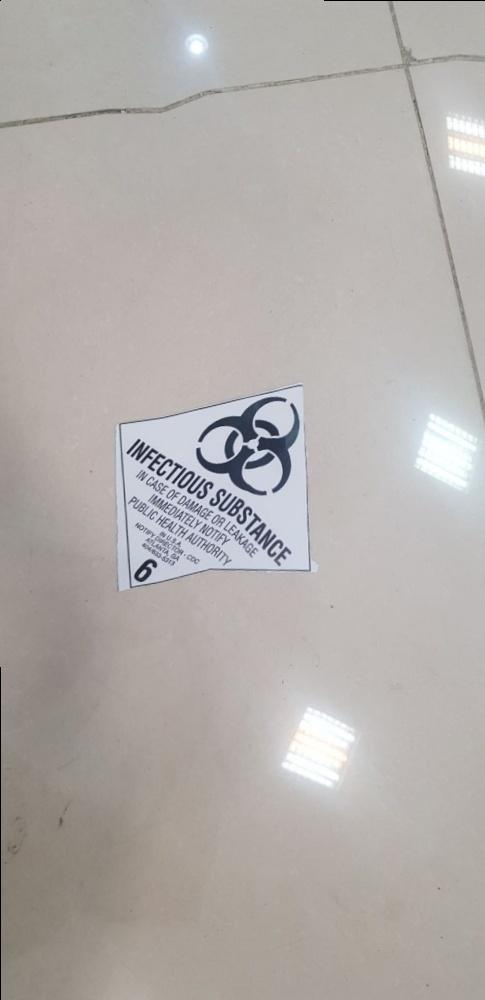infectious-substance: (110, 386, 324, 596)
